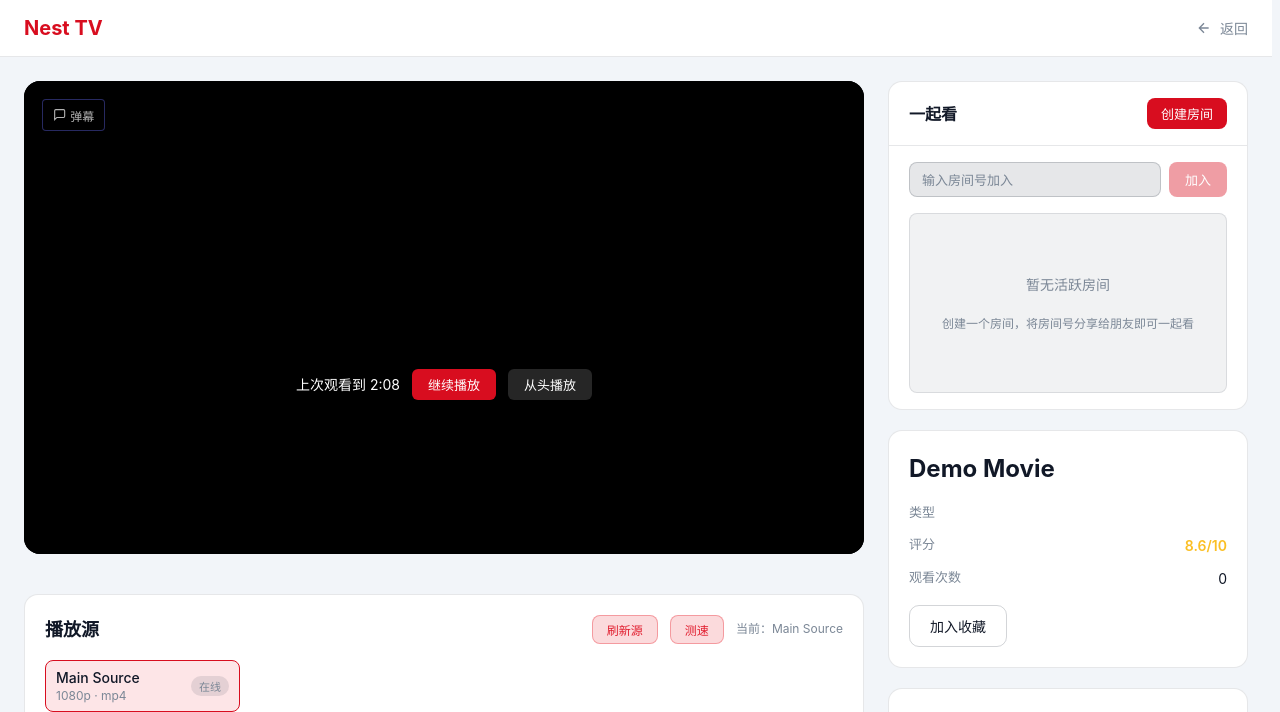
Test: WatchView › toggles favorite state and shows feedback
Click the button "加入收藏" at (958, 626), box [909, 604, 1007, 646]
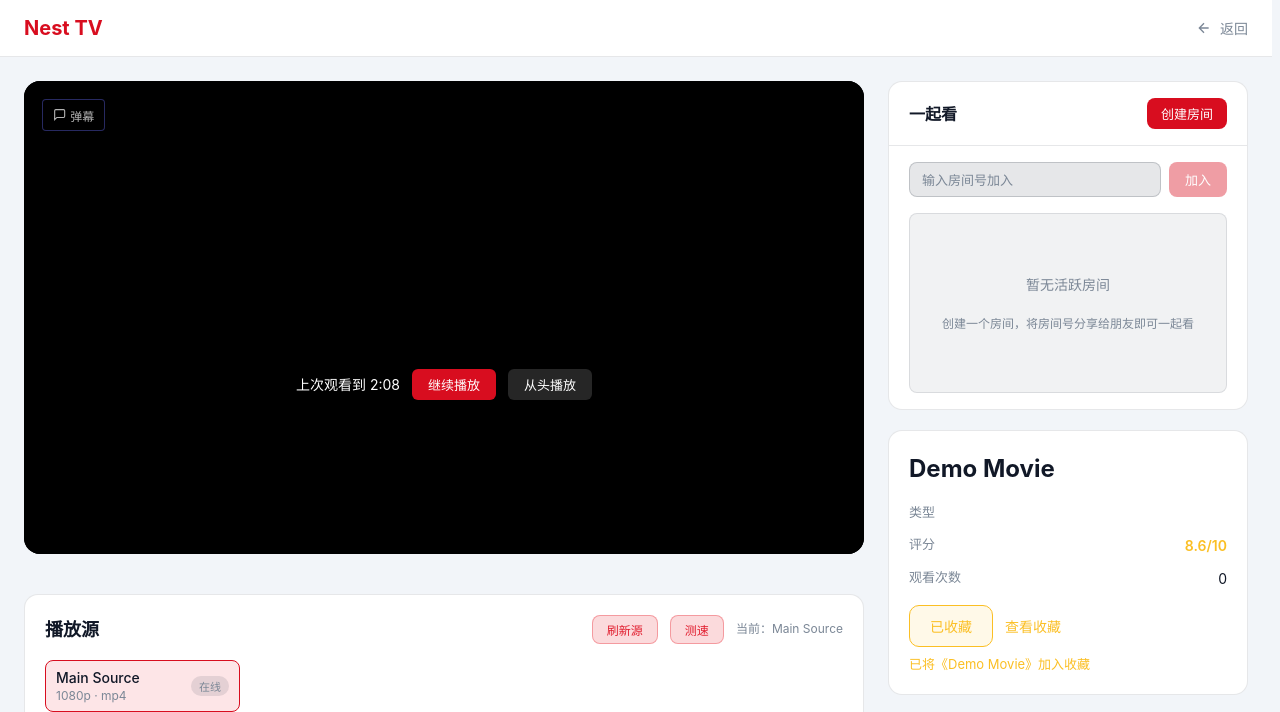
expect the text "已将《Demo Movie》加入收藏" is shown: met, box [909, 656, 1090, 672]
